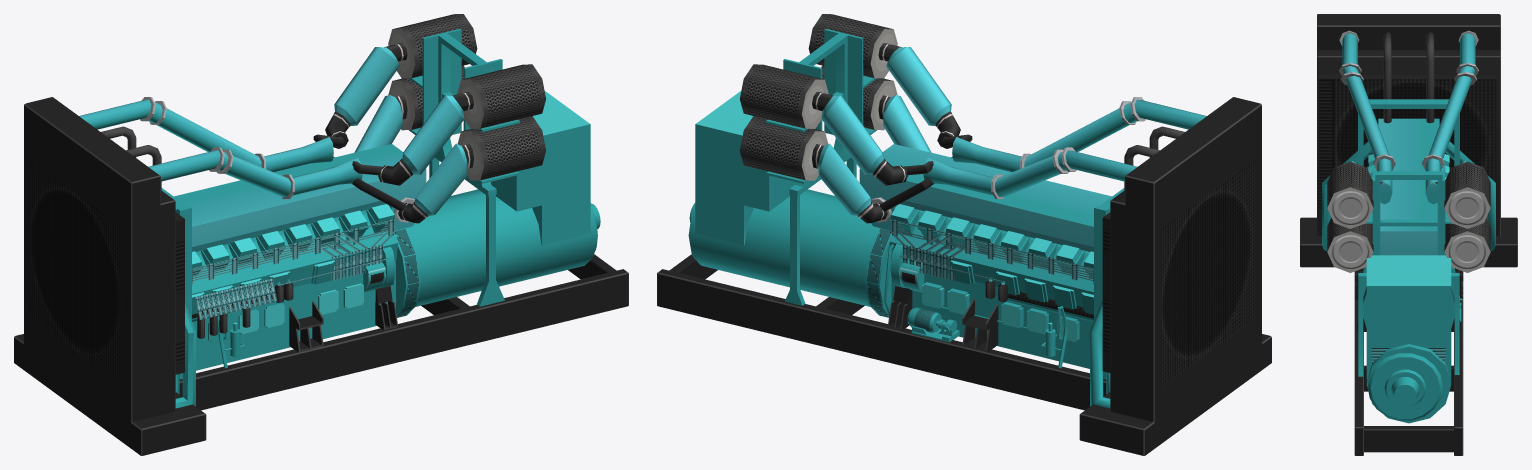
Rendered from CUMMINS Power_Generation.glb.
3 views of the same model, side by side, from view 1: azimuth 30°, elevation 25°; view 2: azimuth 150°, elevation 25°; view 3: azimuth 270°, elevation 25° (orthographic). The views are drawn at different scales.
Parts seen in each view (by area): view 1: Lo-BODY_01, Lo-PRINT_01; view 2: Lo-BODY_01, Lo-PRINT_01; view 3: Lo-BODY_01.
Part boxes in pixels (x1,y1,x2,y2): Lo-BODY_01: (14,14,628,455); Lo-PRINT_01: (192,219,395,319); Lo-BODY_01: (657,14,1271,455); Lo-PRINT_01: (890,219,1093,284); Lo-BODY_01: (1300,14,1517,455).
Size of the model in its own units: 5.56 by 2.73 by 2.37.
2 materials, 2 textured.
